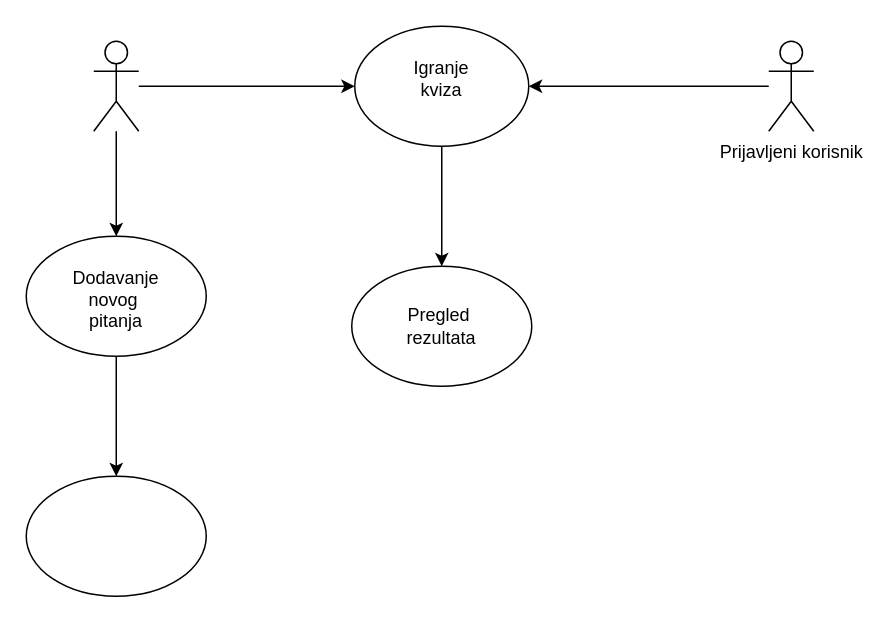
This 888x623 diagram has some shape labels left out. Each missing label, with the box of its shape:
Izmena postojeceg pitanja: (25, 475, 206, 596)
Registrovani korisnik: (92, 40, 139, 131)
